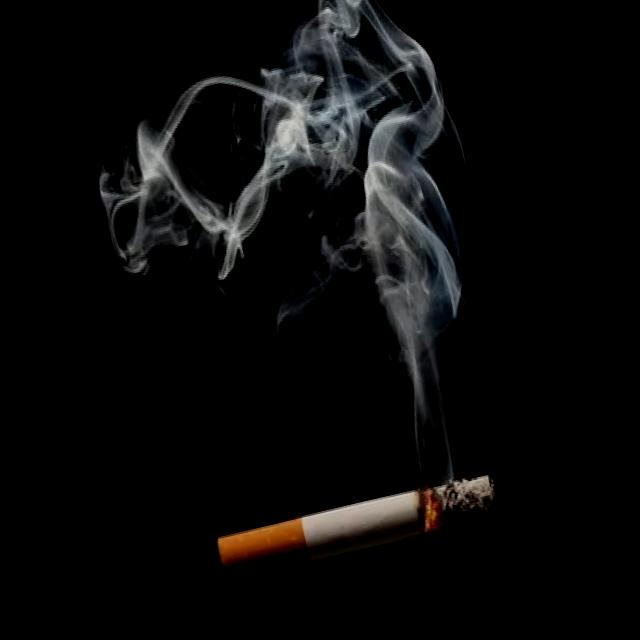cigarette: (198, 460, 511, 599)
